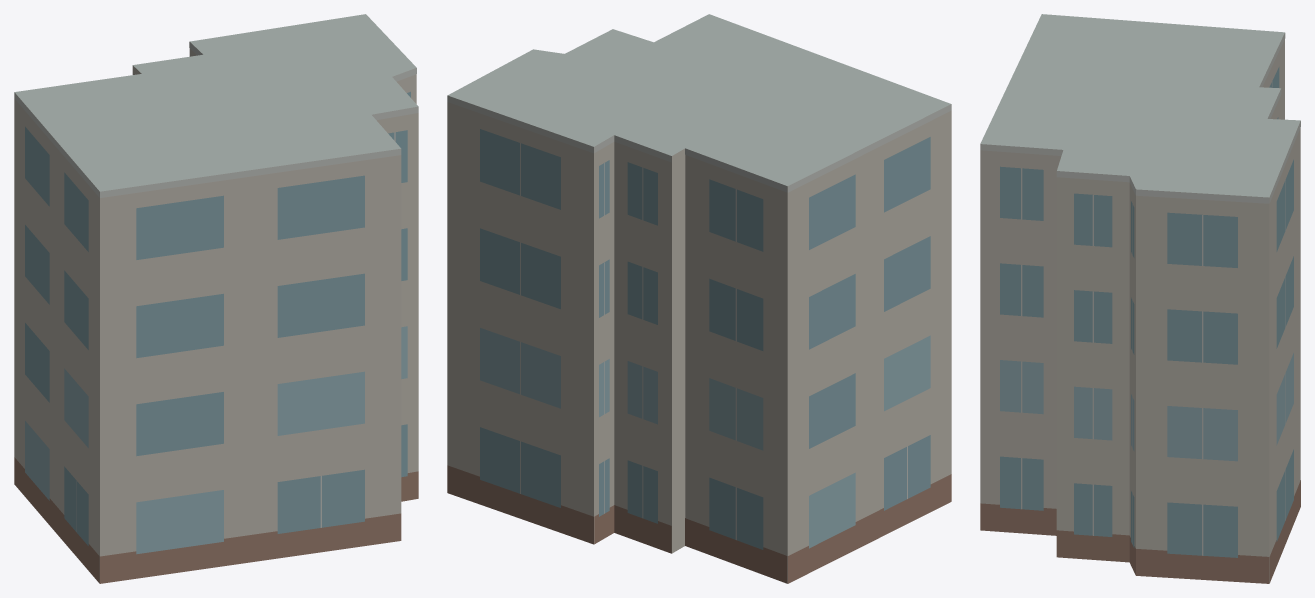
Rendered from survey-upis-32511546.glb.
The picture shows the model from 3 angles, left to right: view 1: azimuth 30°, elevation 25°; view 2: azimuth 150°, elevation 25°; view 3: azimuth 270°, elevation 25°; orthographic projection. The views are drawn at different scales.
Parts seen in each view (by area): view 1: survey-upis-32511546.tmp; view 2: survey-upis-32511546.tmp; view 3: survey-upis-32511546.tmp.
Part boxes in pixels (x1,y1,x2,y2): survey-upis-32511546.tmp: (14,14,418,583); survey-upis-32511546.tmp: (447,14,951,583); survey-upis-32511546.tmp: (980,14,1300,583).
Bounding box in the file's own units: 15.19 × 14.9 × 11.22.
